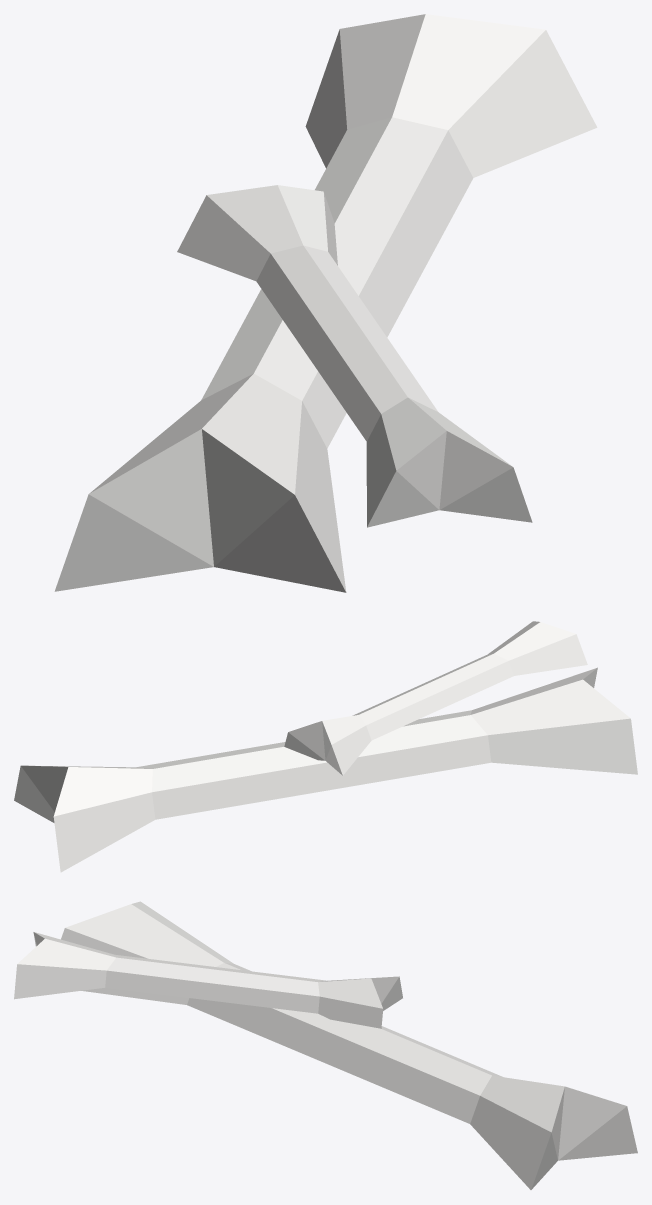
File: Bones_3.fbx
The picture shows the model from 3 angles, top to bottom: view 1: azimuth 30°, elevation 25°; view 2: azimuth 150°, elevation 25°; view 3: azimuth 270°, elevation 25°; orthographic projection. The views are drawn at different scales.
Visible parts, largest first — view 1: Bones_3; view 2: Bones_3; view 3: Bones_3.
Part boxes in pixels (x1,y1,x2,y2): Bones_3: (54, 14, 597, 592); Bones_3: (14, 621, 637, 872); Bones_3: (14, 901, 637, 1189).
Bounding box in the file's own units: 65.68 × 73.59 × 13.92.
